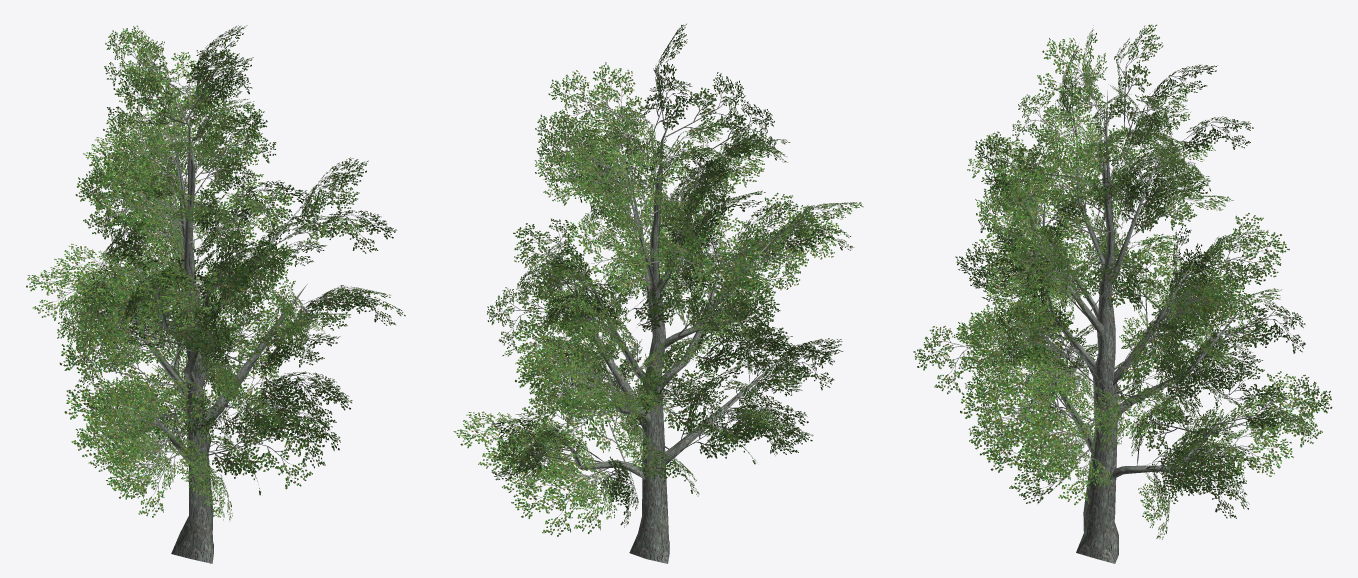
The model's file is White_Oak_LowPoly.fbx.
The picture shows the model from 3 angles, left to right: view 1: azimuth 30°, elevation 25°; view 2: azimuth 150°, elevation 25°; view 3: azimuth 270°, elevation 25°; orthographic projection. The views are drawn at different scales.
Visible parts, largest first — view 1: White_Oak_Mobile_26; view 2: White_Oak_Mobile_26; view 3: White_Oak_Mobile_26.
Boxes of the visible parts, box(x1,y1,x2,y2) form: White_Oak_Mobile_26: box(26, 25, 405, 563); White_Oak_Mobile_26: box(453, 24, 863, 563); White_Oak_Mobile_26: box(913, 24, 1332, 563).
Bounding box in the file's own units: 4.6 × 6.41 × 4.94.
Materials: 2 (2 with a texture image).
